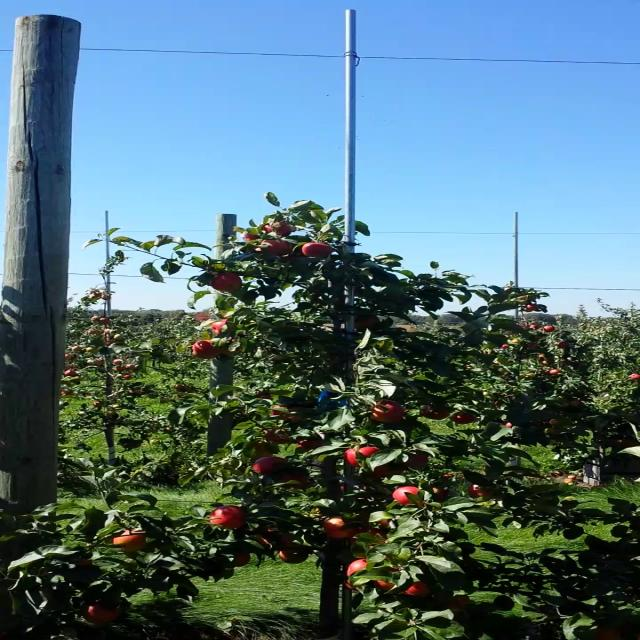apple: (112, 528, 148, 554), (209, 505, 248, 527), (255, 528, 293, 549), (390, 485, 426, 507), (321, 517, 355, 539), (85, 602, 119, 624), (345, 446, 381, 466), (370, 402, 404, 422), (210, 272, 243, 292), (190, 338, 222, 358), (350, 527, 390, 543), (252, 456, 287, 474), (272, 473, 310, 489), (260, 238, 290, 255), (262, 221, 292, 237), (301, 241, 331, 257), (420, 403, 450, 419), (262, 428, 292, 444), (401, 452, 432, 467), (400, 583, 433, 595), (251, 440, 272, 458), (347, 558, 368, 576), (448, 411, 479, 423), (429, 485, 447, 503), (279, 550, 305, 562), (597, 625, 619, 639), (449, 594, 470, 608), (270, 404, 294, 416), (468, 483, 487, 497), (295, 437, 319, 448), (372, 579, 394, 591), (212, 318, 226, 334), (236, 553, 250, 567), (345, 577, 359, 591), (516, 293, 535, 302), (242, 232, 260, 240), (374, 466, 390, 475), (568, 400, 586, 408), (522, 302, 536, 312), (60, 388, 76, 396), (256, 390, 270, 399), (627, 373, 640, 382), (374, 518, 388, 526), (86, 328, 104, 334), (129, 388, 142, 396), (502, 422, 516, 429), (548, 369, 562, 376), (499, 344, 515, 350), (547, 418, 560, 425), (60, 353, 75, 359), (100, 318, 115, 324), (530, 322, 542, 329), (110, 358, 124, 364), (65, 369, 79, 375), (544, 325, 555, 332), (121, 373, 132, 380), (69, 344, 80, 351), (90, 359, 105, 364), (524, 343, 536, 349), (86, 347, 98, 353), (124, 364, 138, 369), (502, 286, 513, 292), (558, 360, 569, 366), (111, 367, 124, 372), (555, 341, 565, 347), (539, 360, 551, 365), (91, 316, 101, 322), (482, 350, 493, 355), (172, 383, 183, 388), (114, 334, 123, 340), (106, 340, 115, 346), (93, 401, 103, 406), (537, 354, 547, 358), (482, 392, 492, 396), (493, 360, 502, 364), (104, 329, 113, 333), (112, 404, 120, 408)
